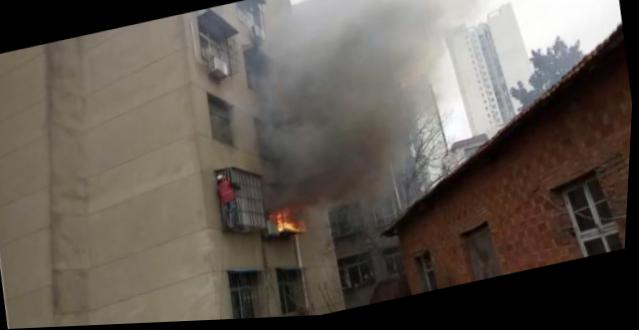fire: (273, 207, 303, 235)
